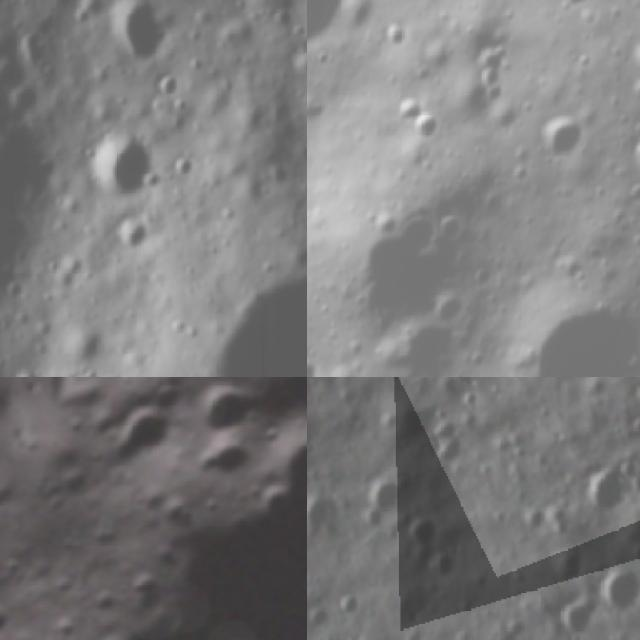crater: (313, 151, 499, 351), (479, 265, 640, 377), (366, 301, 485, 377), (512, 92, 605, 184), (96, 394, 181, 479), (93, 0, 180, 65), (88, 129, 162, 204), (187, 377, 261, 445), (307, 0, 376, 70), (606, 90, 640, 208), (578, 459, 640, 518), (372, 82, 432, 138), (422, 406, 471, 474), (398, 101, 453, 158), (197, 434, 253, 489), (543, 591, 600, 640), (77, 583, 125, 630), (159, 493, 206, 540), (113, 210, 160, 256), (595, 564, 640, 612), (307, 484, 348, 535), (360, 476, 412, 516), (120, 567, 162, 610), (144, 378, 184, 418), (53, 466, 93, 506), (403, 511, 444, 549), (544, 546, 585, 583), (41, 607, 84, 640), (275, 44, 307, 87), (62, 409, 94, 442), (0, 553, 29, 584), (623, 32, 640, 84), (0, 477, 21, 512), (0, 593, 15, 640), (84, 627, 138, 640), (12, 358, 46, 377), (110, 377, 139, 394)
